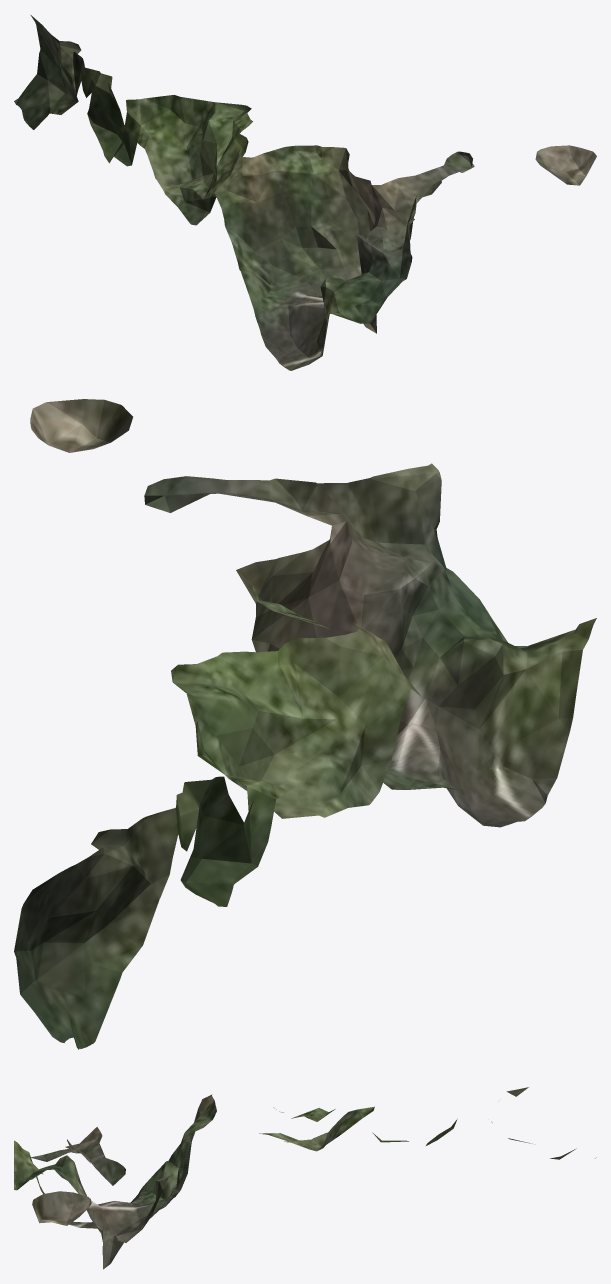
The picture shows the model from 3 angles, top to bottom: view 1: azimuth 30°, elevation 25°; view 2: azimuth 150°, elevation 25°; view 3: azimuth 270°, elevation 25°; orthographic projection. The views are drawn at different scales.
Bounding box in the file's own units: 6.61 × 3.22 × 11.8.
1 material, 1 textured.
